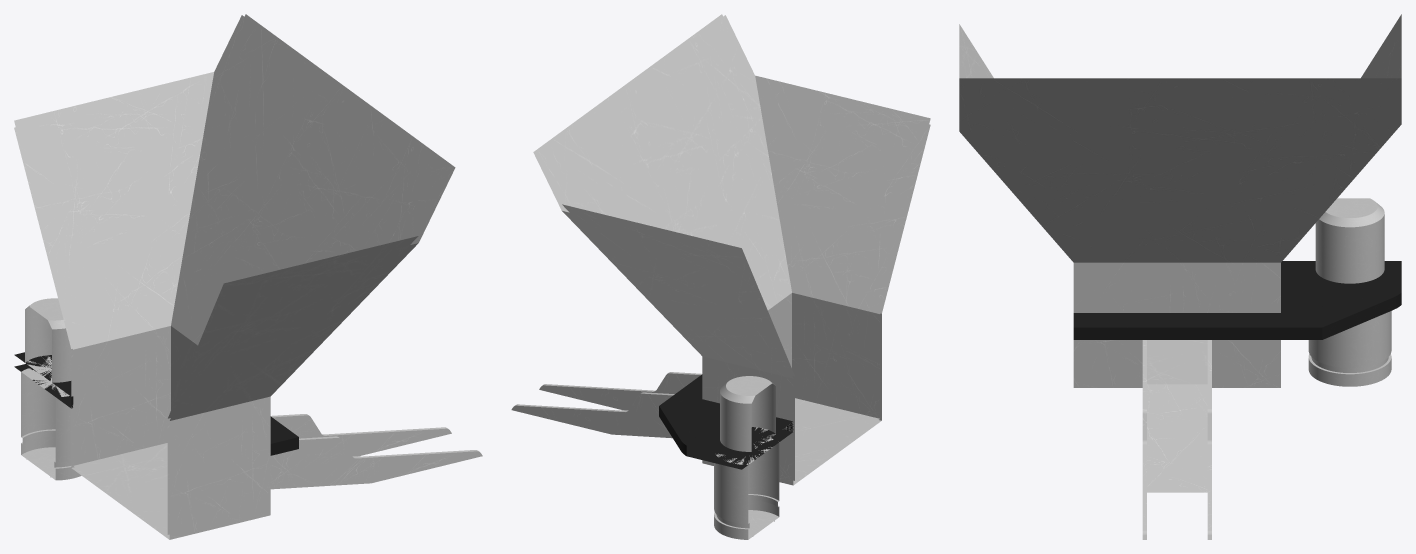
File: Cube06_TightenerStation.glb
The picture shows the model from 3 angles, left to right: view 1: azimuth 30°, elevation 25°; view 2: azimuth 150°, elevation 25°; view 3: azimuth 270°, elevation 25°; orthographic projection. The views are drawn at different scales.
Parts seen in each view (by area): view 1: color-2.003; view 2: color-2.003; view 3: color-2.003.
Boxes of the visible parts, box(x1,y1,x2,y2) form: color-2.003: box(14, 14, 482, 539); color-2.003: box(511, 14, 930, 539); color-2.003: box(959, 14, 1401, 539).
Bounding box in the file's own units: 0.3049 × 0.32 × 0.32.
2 materials, 2 textured.
